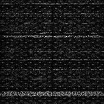lte: (1, 90, 104, 96), (1, 34, 104, 38)
